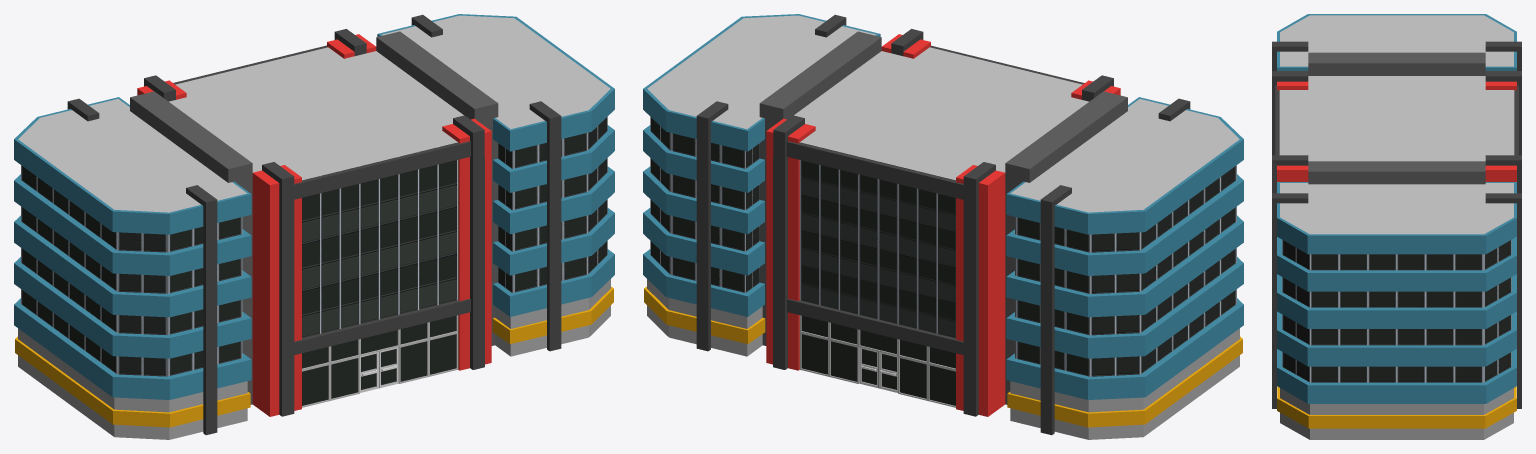
3 views of the same model, side by side, from view 1: azimuth 30°, elevation 25°; view 2: azimuth 150°, elevation 25°; view 3: azimuth 270°, elevation 25° (orthographic). The views are drawn at different scales.
Visible parts, largest first — view 1: DC-03; view 2: DC-03; view 3: DC-03.
Part boxes in pixels (<box>): DC-03: <box>14,14,614,439</box>; DC-03: <box>643,14,1243,439</box>; DC-03: <box>1272,14,1521,439</box>.
Size of what is drawn, in the model's own units: 38.14 by 17.5 by 18.18.
